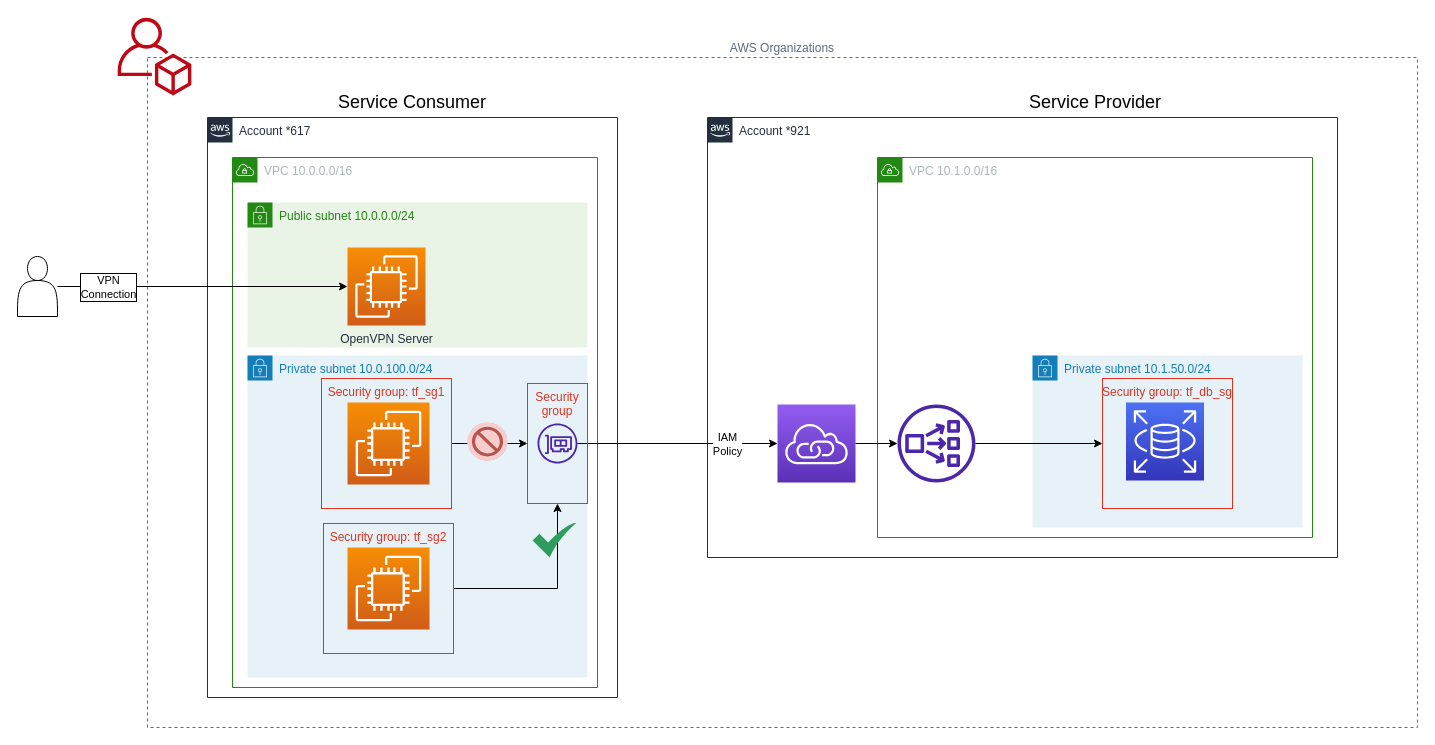
Image size: 1435x745. Some labels were removed from this diagram. The centre of each missing label's shape, as x and y in pixels:
"djl-database-1" goes at pixel 1164 441.
"djl-win-server" goes at pixel 388 443.
"djl-win-server2" goes at pixel 388 588.
"Interface Endpoint" goes at pixel 557 443.
"NLB" goes at pixel 936 443.
"User" goes at pixel 37 286.
"VPC Endpoint Service (PrivateLink)" goes at pixel 816 443.
